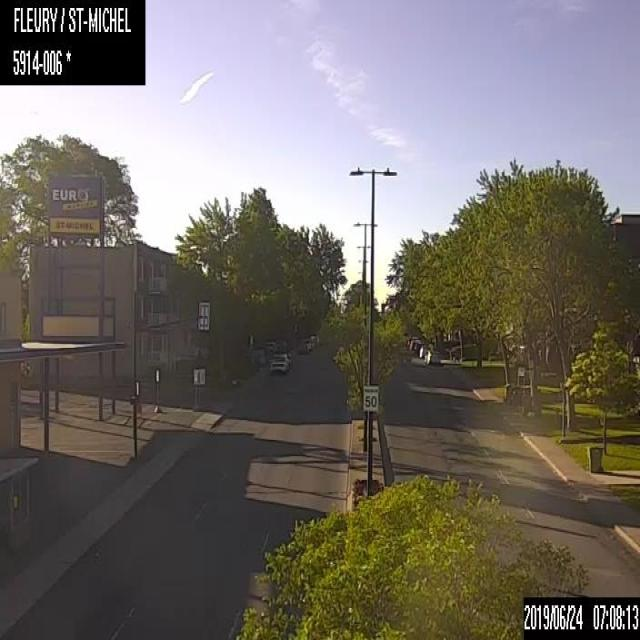vehicle: (268, 353, 290, 376), (422, 346, 443, 366), (298, 338, 312, 353)
